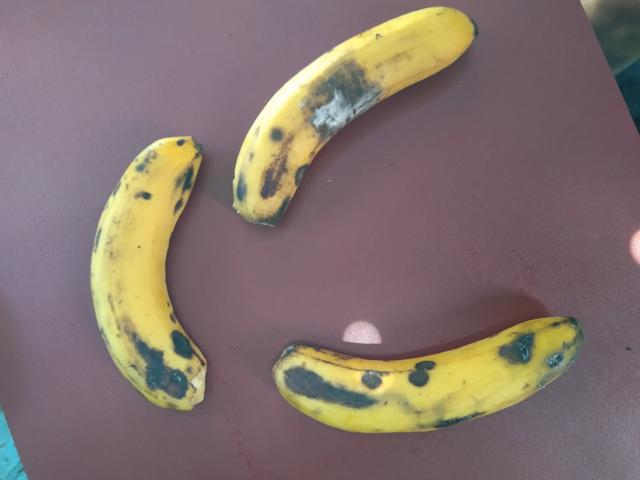overripe: (58, 126, 244, 417), (238, 300, 609, 444)
ripe: (223, 0, 511, 256)
rotten: (280, 57, 433, 162)
